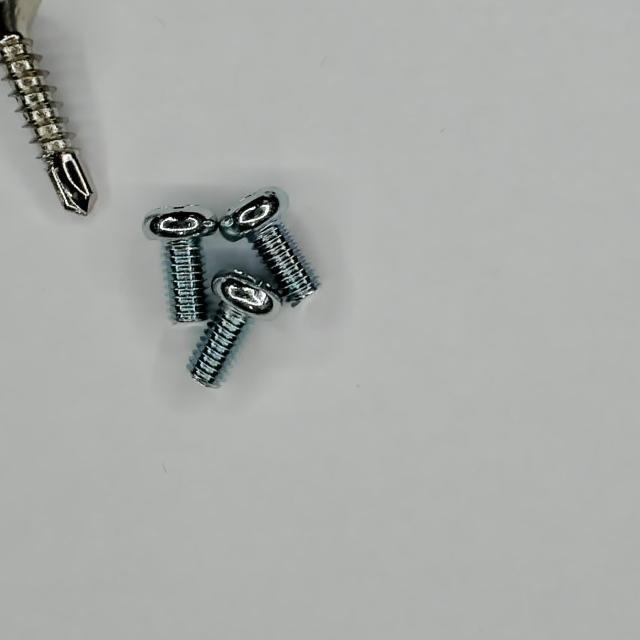Screw: (0, 0, 94, 214), (220, 188, 319, 306), (191, 270, 273, 386), (143, 205, 218, 322)
